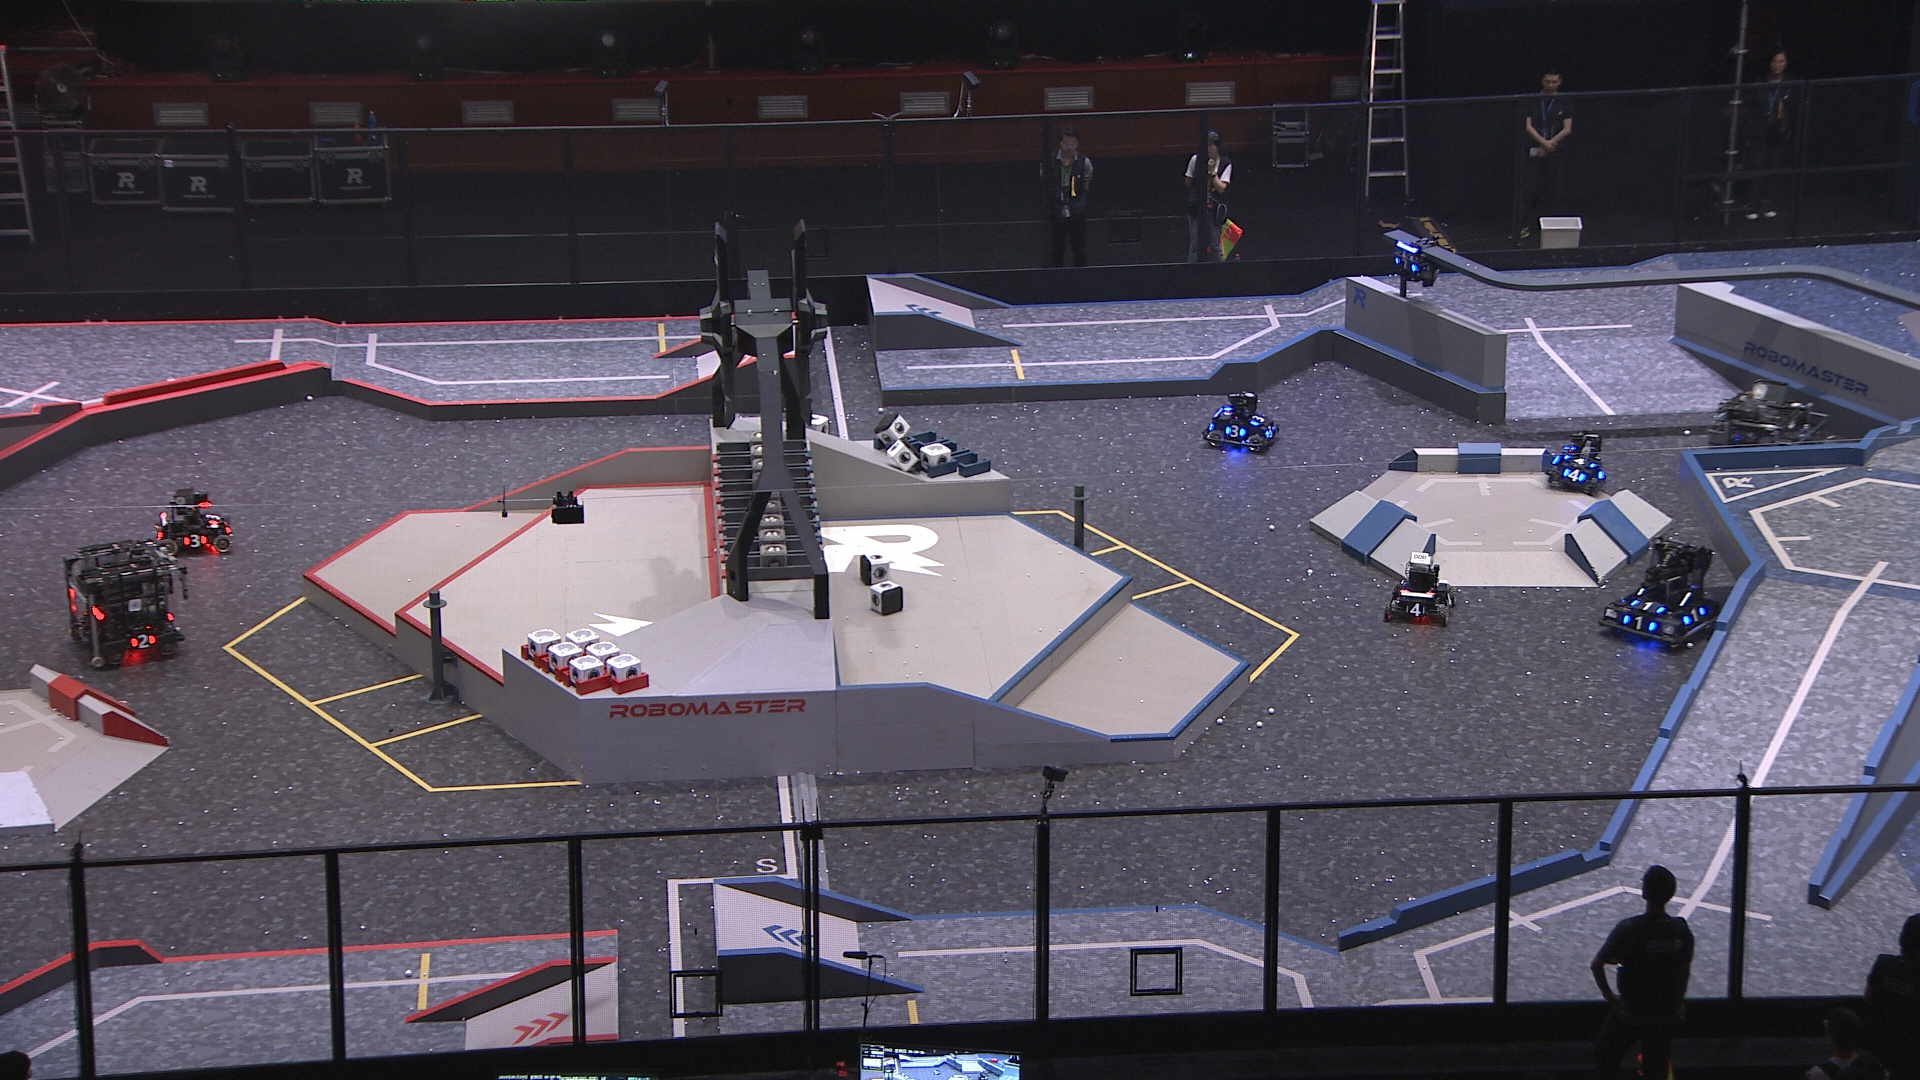armor: (1622, 613, 1655, 632), (1631, 597, 1662, 613), (1394, 253, 1418, 273), (1681, 607, 1706, 624), (181, 533, 207, 549), (129, 632, 156, 647), (1565, 452, 1593, 467), (1564, 469, 1585, 484), (1404, 603, 1425, 617), (1224, 425, 1247, 436), (204, 510, 222, 526), (1249, 414, 1266, 427), (1265, 422, 1276, 439), (1444, 589, 1453, 611)
car: (1697, 380, 1836, 504), (61, 537, 187, 665), (1600, 534, 1731, 654), (146, 483, 231, 556), (1381, 550, 1461, 626), (1203, 386, 1282, 458), (1543, 427, 1607, 496)
watcher: (1389, 229, 1449, 291)
